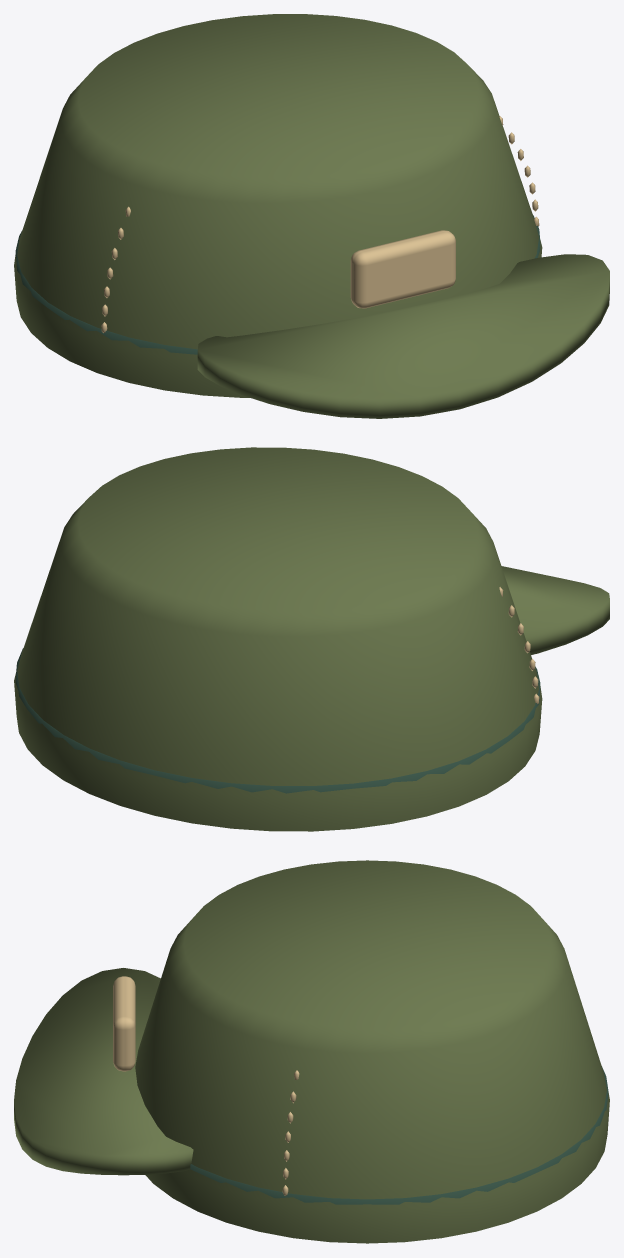
Rendered from 05-switchback-five-panel.glb.
3 renders of one model, top to bottom at view 1: azimuth 30°, elevation 25°; view 2: azimuth 150°, elevation 25°; view 3: azimuth 270°, elevation 25°, orthographic. The views are drawn at different scales.
Visible parts, largest first — view 1: Hat05_Crown1, Hat05_Visor2, Hat05_Patch4, Hat05_Band3; view 2: Hat05_Crown1, Hat05_Visor2, Hat05_Band3; view 3: Hat05_Crown1, Hat05_Visor2, Hat05_Band3, Hat05_Patch4.
Part boxes in pixels (<box>): Hat05_Crown1: <box>14,14,542,397</box>; Hat05_Visor2: <box>197,254,609,418</box>; Hat05_Patch4: <box>350,230,455,308</box>; Hat05_Band3: <box>15,215,540,354</box>; Hat05_Crown1: <box>14,447,542,831</box>; Hat05_Visor2: <box>501,566,609,654</box>; Hat05_Band3: <box>15,648,540,793</box>; Hat05_Crown1: <box>135,860,609,1243</box>; Hat05_Visor2: <box>14,968,193,1175</box>; Hat05_Band3: <box>190,1066,608,1204</box>; Hat05_Patch4: <box>113,976,135,1071</box>.
Bounding box in the file's own units: 0.6201 × 0.25 × 0.7086.
